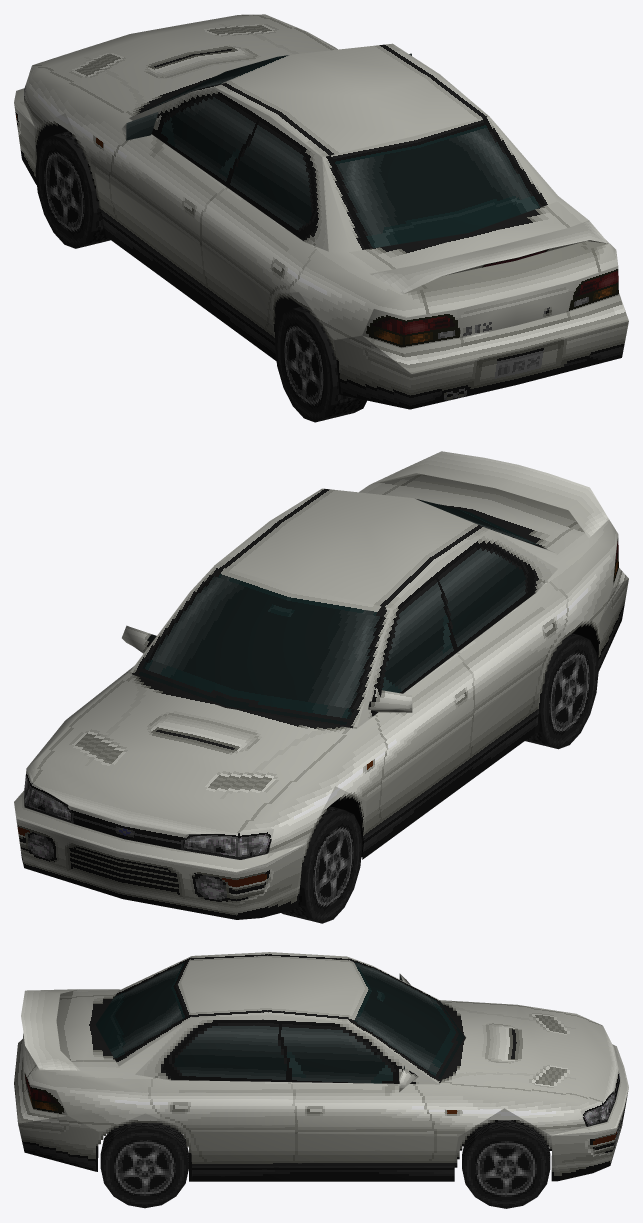
Rendered from GT_SIMULATION__SIPZN.glb.
The picture shows the model from 3 angles, top to bottom: view 1: azimuth 30°, elevation 25°; view 2: azimuth 150°, elevation 25°; view 3: azimuth 270°, elevation 25°; orthographic projection. The views are drawn at different scales.
Visible parts, largest first — view 1: Native body LOD0, Native wheel 2, Native wheel 0; view 2: Native body LOD0, Native wheel 0, Native wheel 2; view 3: Native body LOD0, Native wheel 1, Native wheel 3.
Part boxes in pixels (left/top/right/bottom): Native body LOD0: left=14, top=14, right=628, bottom=409; Native wheel 2: left=275, top=306, right=366, bottom=422; Native wheel 0: left=35, top=131, right=110, bottom=248; Native body LOD0: left=14, top=451, right=628, bottom=919; Native wheel 0: left=281, top=806, right=362, bottom=923; Native wheel 2: left=525, top=633, right=598, bottom=749; Native body LOD0: left=14, top=952, right=628, bottom=1181; Native wheel 1: left=462, top=1120, right=550, bottom=1208; Native wheel 3: left=100, top=1122, right=188, bottom=1208.
Size of the model in its own units: 1.77 by 1.4 by 4.33.
13 materials, 12 textured.
